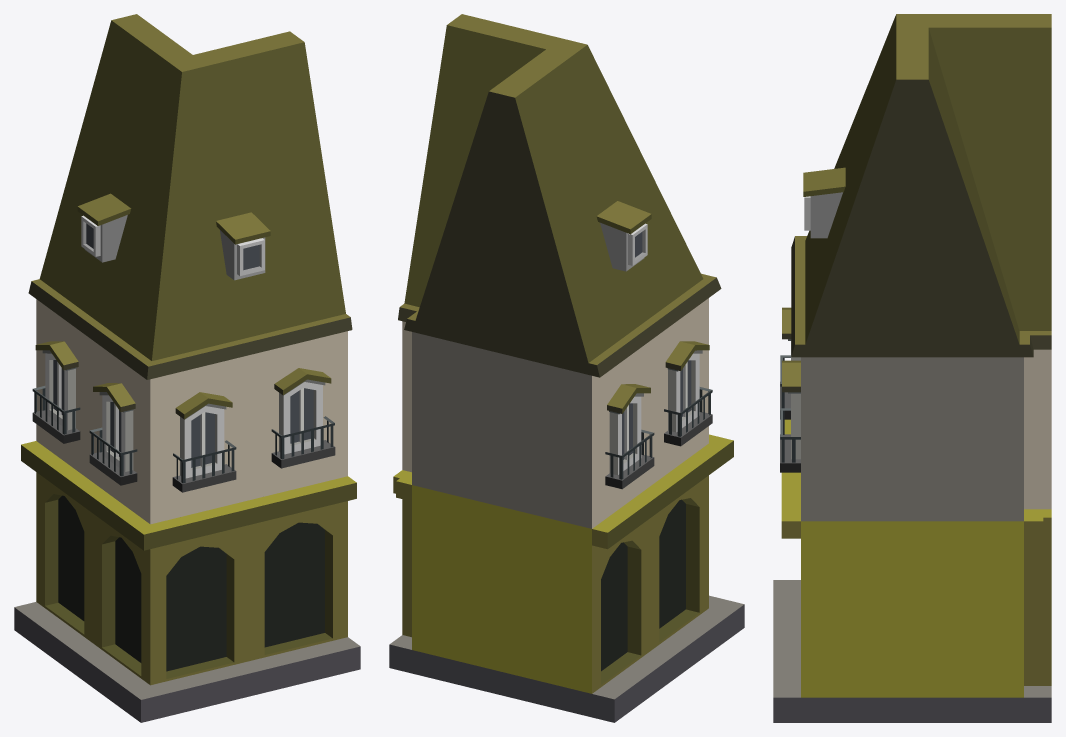
The model's file is TB_CITY_BD_Olive_Corner.FBX.
3 renders of one model, left to right at view 1: azimuth 30°, elevation 25°; view 2: azimuth 150°, elevation 25°; view 3: azimuth 270°, elevation 25°, orthographic. The views are drawn at different scales.
Parts seen in each view (by area): view 1: TB_CITY_BD_Olive_Corner; view 2: TB_CITY_BD_Olive_Corner; view 3: TB_CITY_BD_Olive_Corner.
Boxes of the visible parts, x1,y1,x2,y2 form: TB_CITY_BD_Olive_Corner: (14,14,360,722); TB_CITY_BD_Olive_Corner: (389,14,744,722); TB_CITY_BD_Olive_Corner: (773,14,1051,722).
Size of the model in its own units: 7.99 by 20.37 by 7.99.
